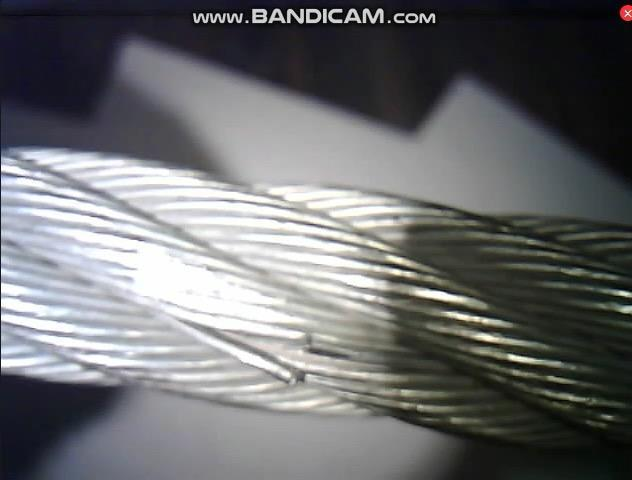break: (260, 326, 337, 391)
